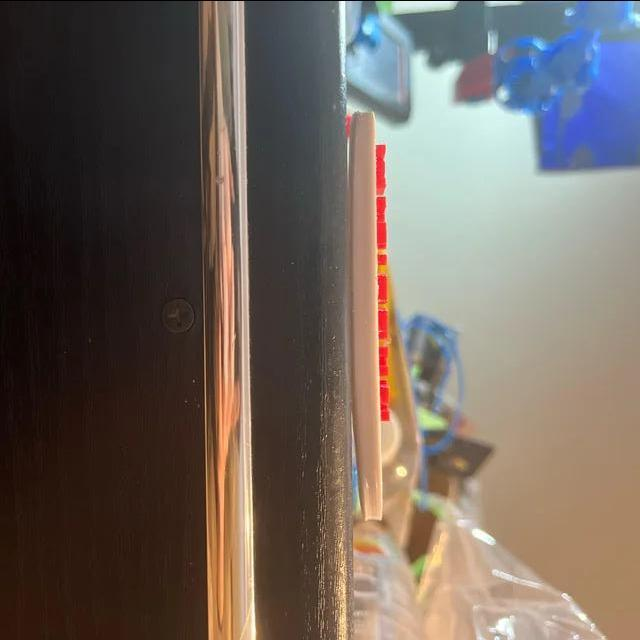Warping: (348, 430, 374, 520), (338, 112, 361, 182)
